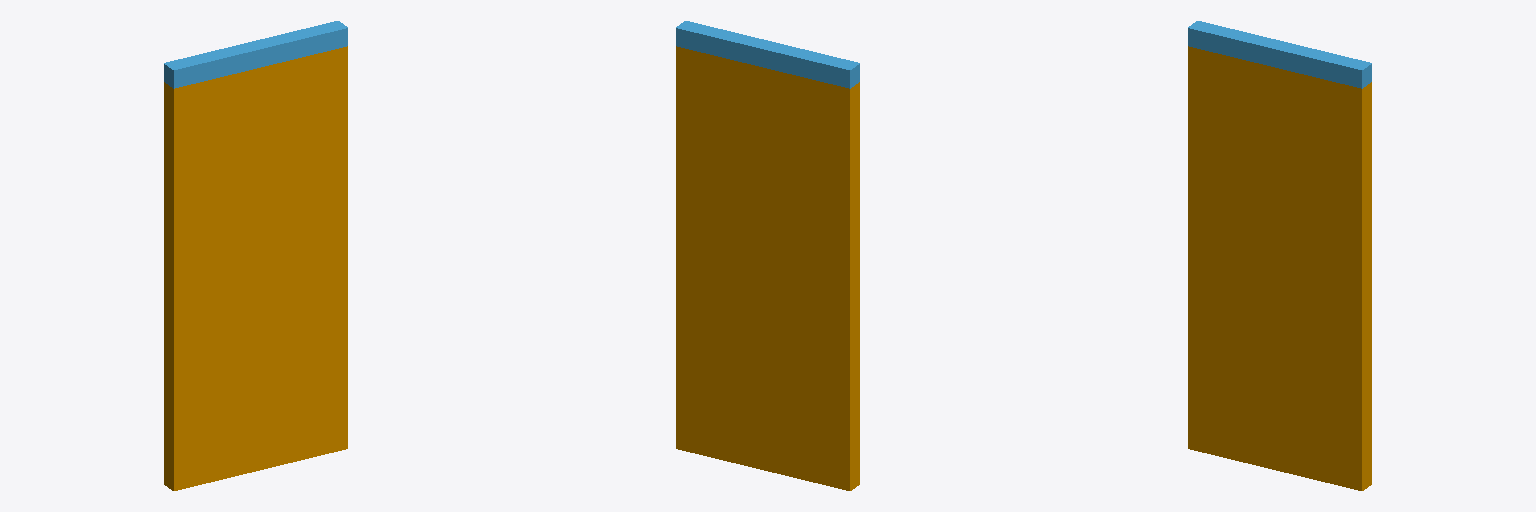
robot.urdf — spatula-base.urdf:
<?xml version="0.0" ?>
<robot name="spatula-base.urdf">
  <material name="DarkGrey">
    <color rgba="0.2 0.2 0.2 1.0"/>
  </material>

  <link name="baseLink">
    <contact>
      <lateral_friction value="1.0"/>
      <rolling_friction value="0.0001"/>
      <inertia_scaling value="3.0"/>
    </contact>
    <inertial>
      <origin rpy="0 0 0" xyz="0 0 0"/>
       <mass value=".1"/>
       <inertia ixx="1" ixy="0" ixz="0" iyy="1" iyz="0" izz="1"/>
    </inertial>
    <visual>
      <origin rpy="0 0 0" xyz="0 0 0"/>
      <geometry>
        <mesh filename="meshes/base.obj" scale="0.001 0.001 0.001"/>
      </geometry>
      <material name="DarkGrey"/>
    </visual>
    <visual>
      <origin rpy="0 0 0" xyz="0 0 0.075"/>
      <geometry>
        <box size="0.05 0.005 0.11"/>
      </geometry>
      <material name="LightGrey"/>
    </visual>
    <collision>
      <origin rpy="0 0 0" xyz="0 0 0.075"/>
      <geometry>
        <box size="0.05 0.005 0.11"/>
      </geometry>
    </collision>
  </link>

  <joint name="baseLink-midLink" type="fixed">
    <origin rpy="0 0 0" xyz="0 0 0.025"/>
    <parent link="baseLink"/>
    <child link="midLink"/>
  </joint>

  <link name="midLink">
    <contact>
      <lateral_friction value="1.0"/>
      <rolling_friction value="0.0001"/>
      <inertia_scaling value="3.0"/>
    </contact>
    <inertial>
      <origin rpy="0 0 0" xyz="0 0 0"/>
       <mass value=".1"/>
       <inertia ixx="1" ixy="0" ixz="0" iyy="1" iyz="0" izz="1"/>
    </inertial>
    <visual>
      <origin rpy="0 0 0" xyz="0 0 0.1075"/>
      <geometry>
        <box size="0.05 0.005 0.005"/>
      </geometry>
      <material name="LightGrey"/>
    </visual>
    <collision>
      <origin rpy="0 0 0" xyz="0 0 0.1075"/>
      <geometry>
        <box size="0.05 0.005 0.005"/>
      </geometry>
    </collision>
  </link>

</robot>

--- Render facts (derived) ---
3 views of the same robot in one strip: view 1: azimuth 30°, elevation 25°; view 2: azimuth 150°, elevation 25°; view 3: azimuth 330°, elevation 25° (orthographic).
Model spatula-base.urdf with 2 links and 1 joints (1 fixed), rooted at baseLink, posed every joint at zero.
Links seen in each view (by area): view 1: baseLink, midLink; view 2: baseLink, midLink; view 3: baseLink, midLink.
Link boxes in pixels (box(x1,y1,x2,y2)): baseLink: box(164, 46, 347, 490); midLink: box(164, 21, 347, 88); baseLink: box(676, 46, 859, 490); midLink: box(676, 21, 859, 88); baseLink: box(1188, 46, 1371, 490); midLink: box(1188, 21, 1371, 88).
Bounding box of the posed robot: 0.05 × 0.005 × 0.115 m (x, y, z).
0 mesh visuals loaded from 1 distinct referenced files (none loaded); not drawn: 1 (reference not matched to a file when rendering).